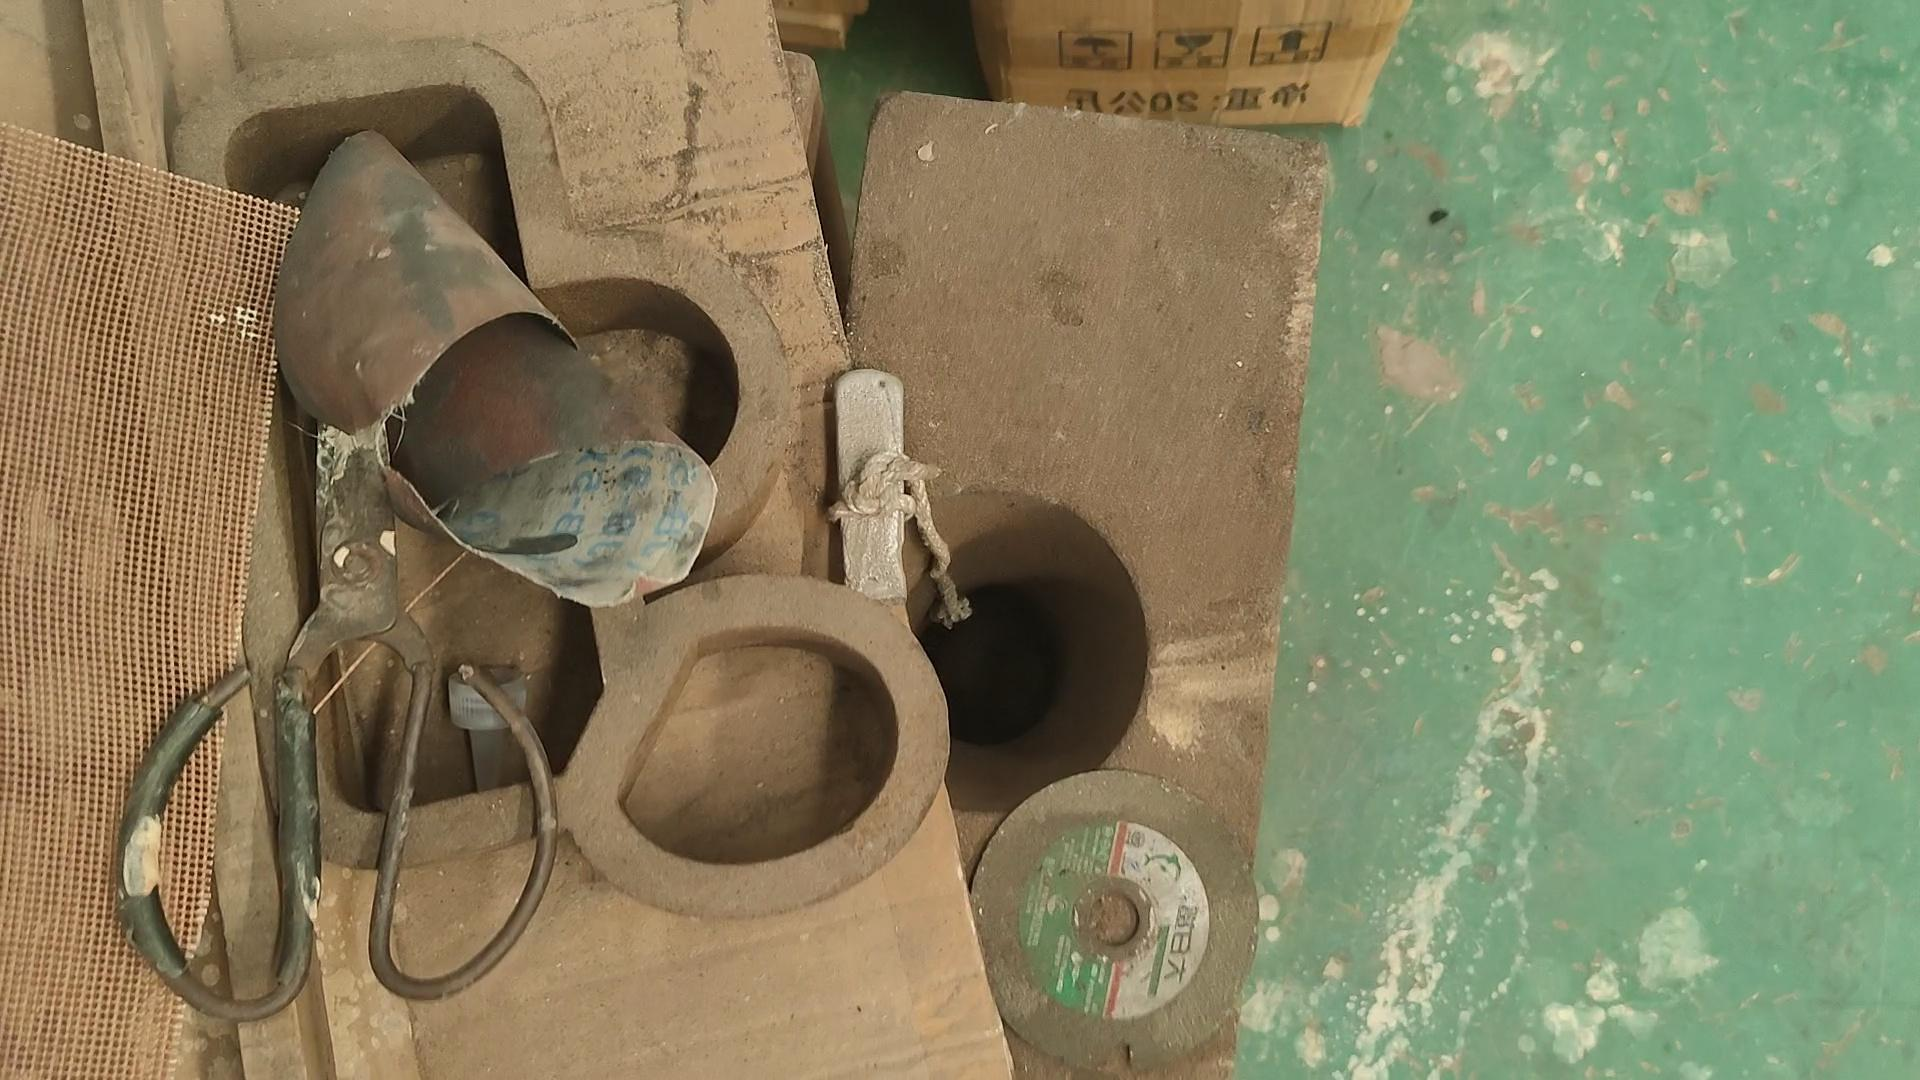pouring hole: (851, 488, 1149, 814)
